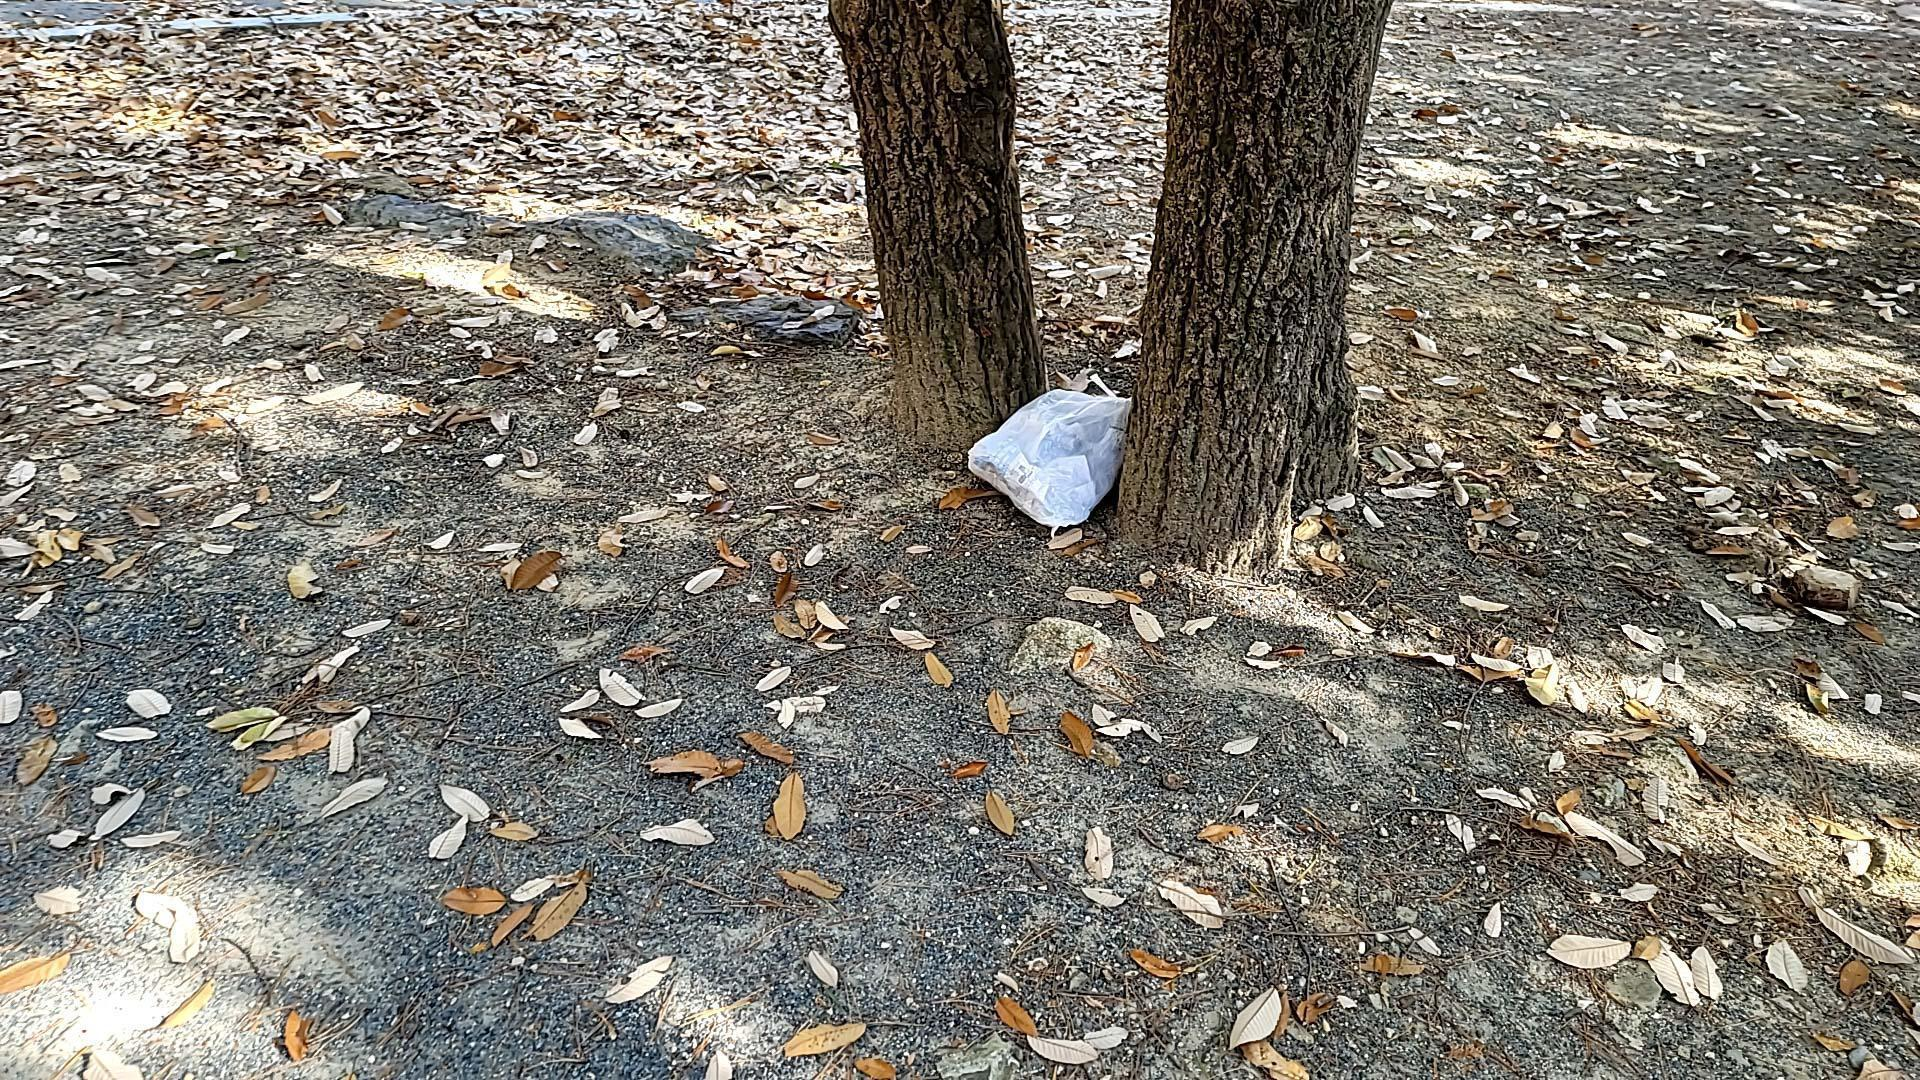white_bag: (944, 378, 1150, 538)
